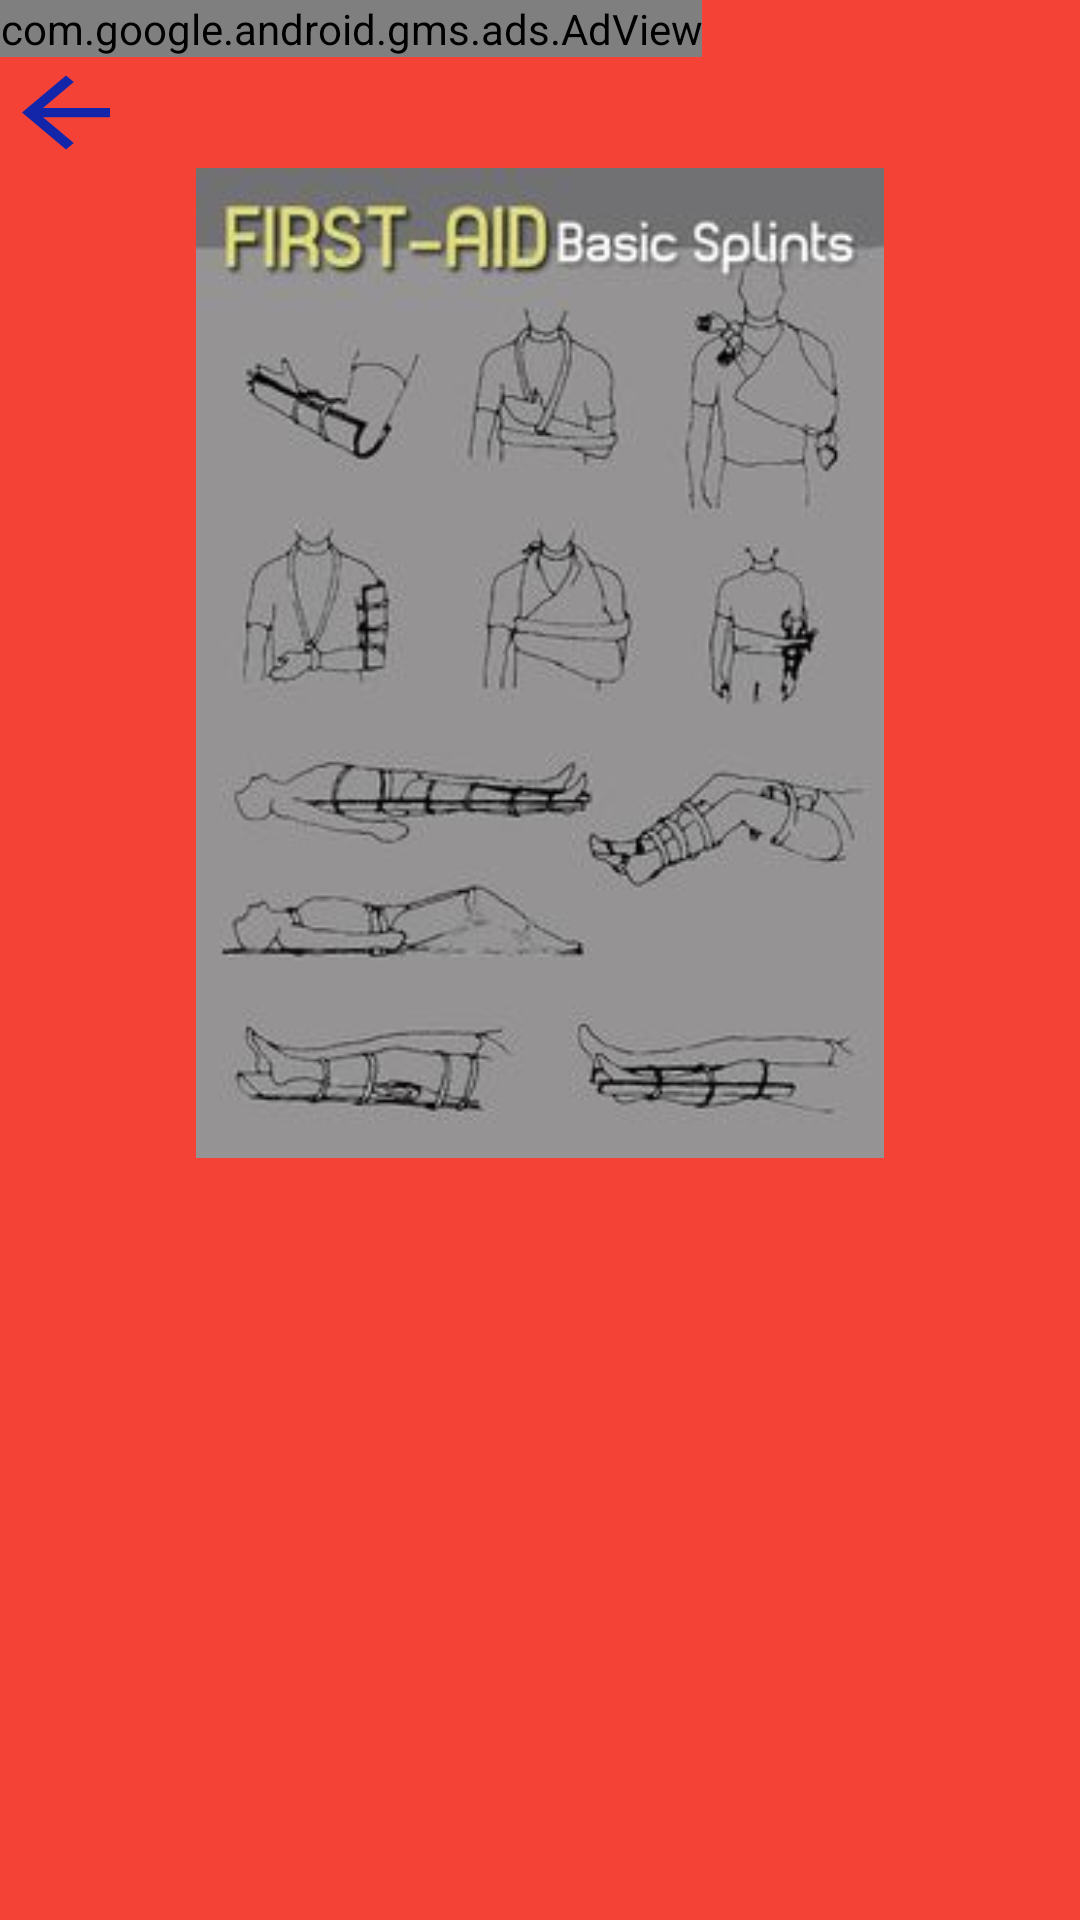

Named icons in this screenshot (1080 x 1920) and their bounding boxes, [x1, y1, x2, y2]:
backarroww: [22, 75, 110, 150]
